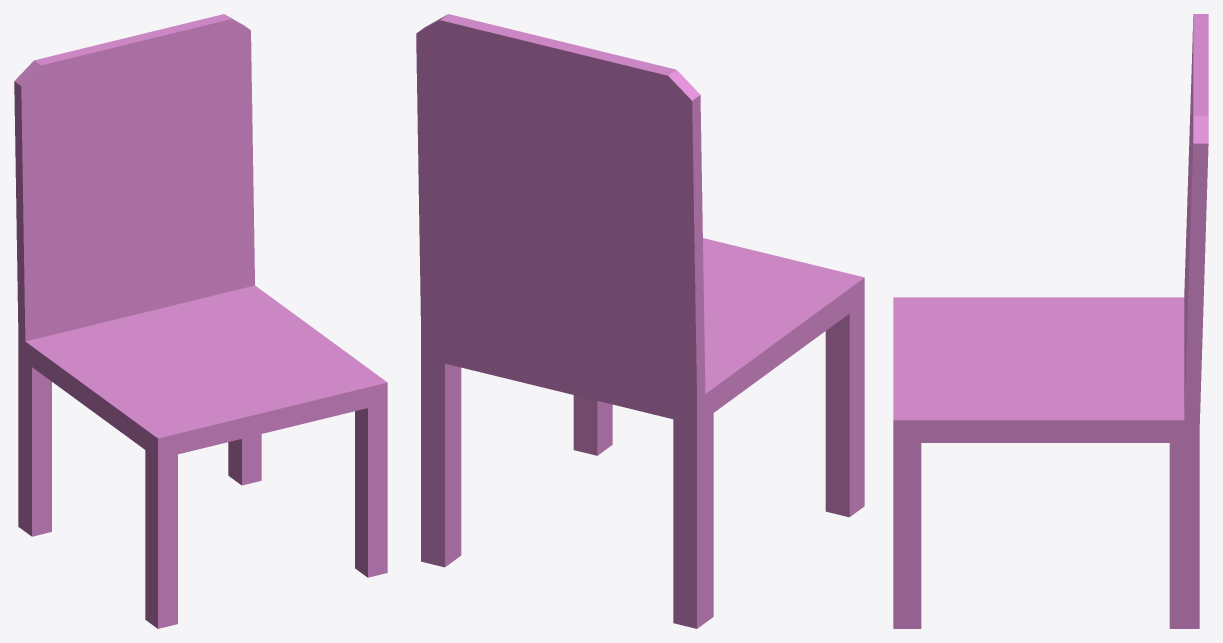
The model's file is pink chair.fbx.
The picture shows the model from 3 angles, left to right: view 1: azimuth 30°, elevation 25°; view 2: azimuth 150°, elevation 25°; view 3: azimuth 270°, elevation 25°; orthographic projection. The views are drawn at different scales.
Visible parts, largest first — view 1: Cube; view 2: Cube; view 3: Cube.
Part boxes in pixels (x1,y1,x2,y2): Cube: [14, 14, 387, 628]; Cube: [416, 14, 864, 628]; Cube: [893, 14, 1208, 628].
Size of the model in its own units: 60.99 by 116 by 66.1.
